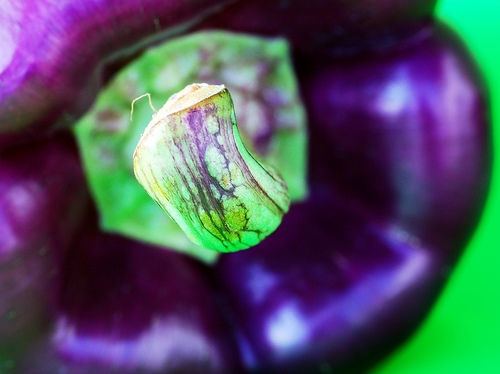capsicum: (0, 0, 494, 373)
